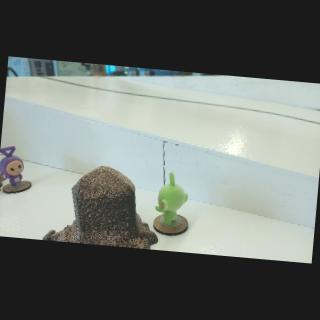teletubby: (155, 173, 188, 226), (0, 147, 23, 188)
